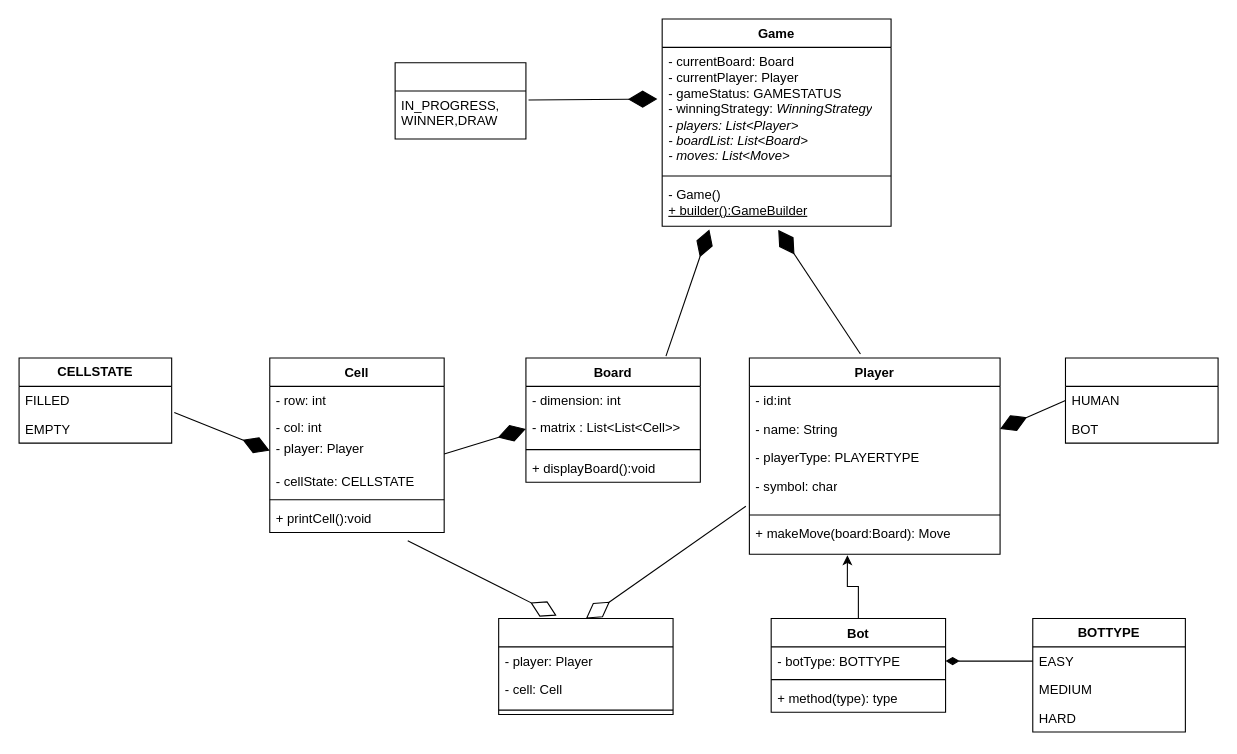
Some shapes in this 1237 by 754 pixel diagram are drawn without their labels. Here are the shapes that lost their labels. From the top down, the box of each, then its label:
(394, 62, 526, 139): GAMESTATUS
(1064, 357, 1218, 443): PLAYERTYPE
(498, 617, 673, 714): Move
